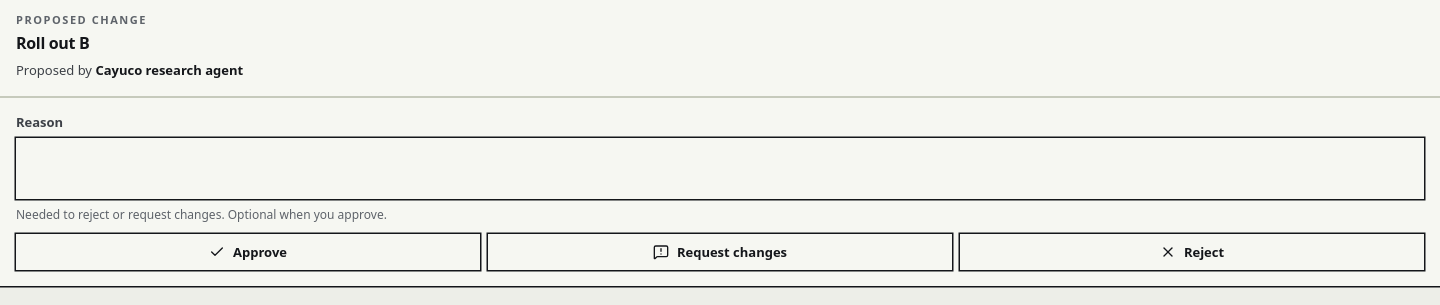
Scenario: ChangeReview › decides with a reason, then replaces the form with the outcome and focuses it
Type "  Guardrail moved.  " into the text box labelled "Reason" at x=720, y=169, box [16,138,1424,199]
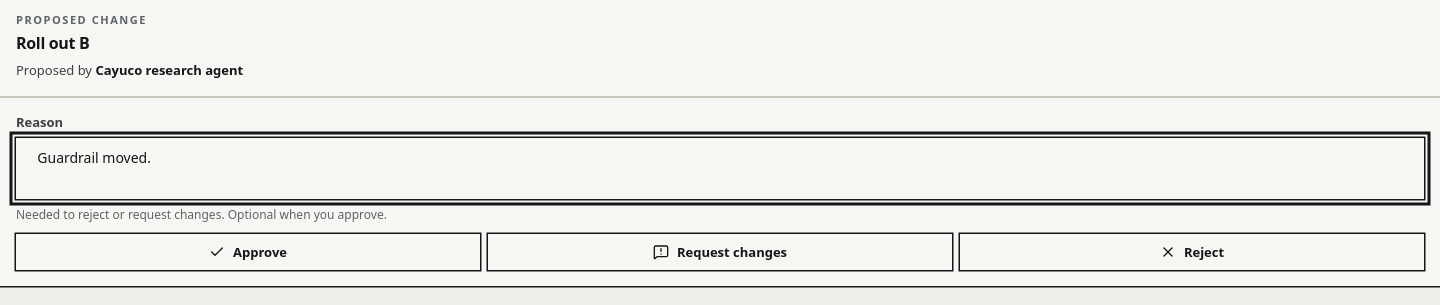
Click the button "Reject" at x=1192, y=252, box [960,234,1424,270]
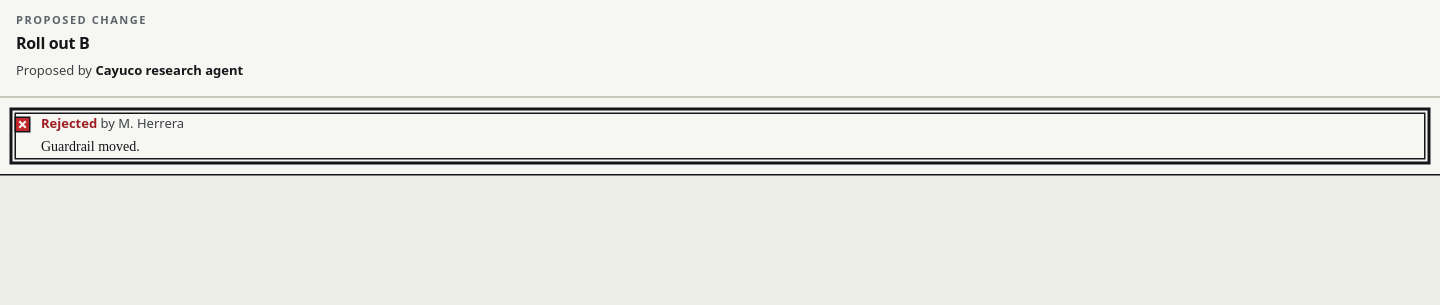
Result: the element "Decision" is gone
Result: the text "Rejected" shows "Rejected by M. Herrera" at [16,114,1424,158]
Result: the text "Rejected" shows "Guardrail moved." at [41,139,140,154]
